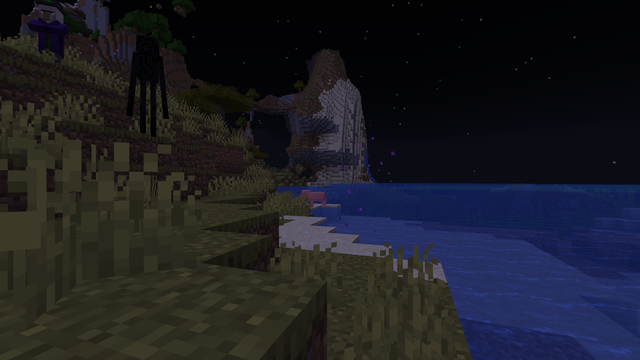cochons: (306, 191, 325, 207)
endermens: (131, 30, 164, 135)
sorcieres: (35, 0, 66, 63)
